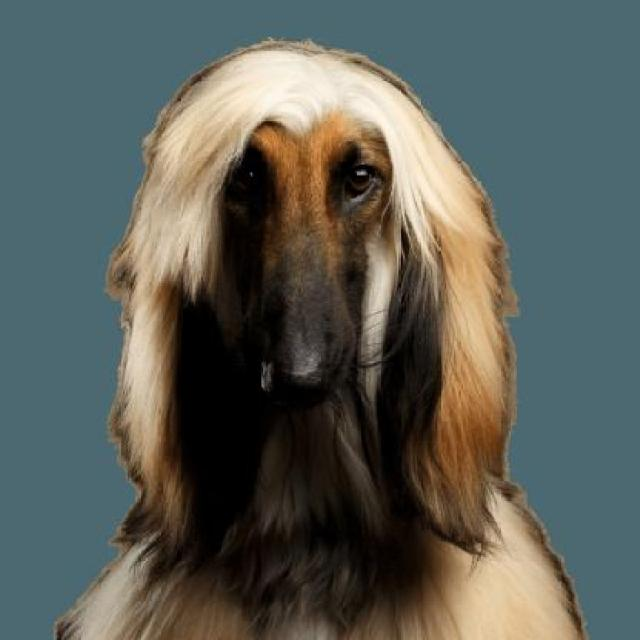animals: (85, 31, 564, 628)
